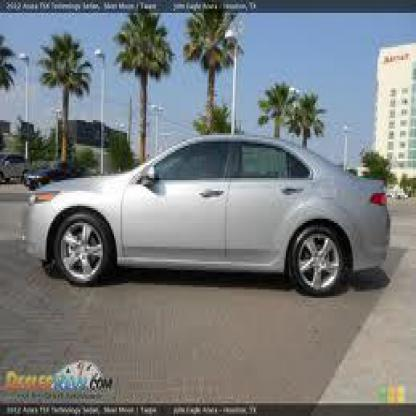Vehicle: (24, 124, 395, 298)
